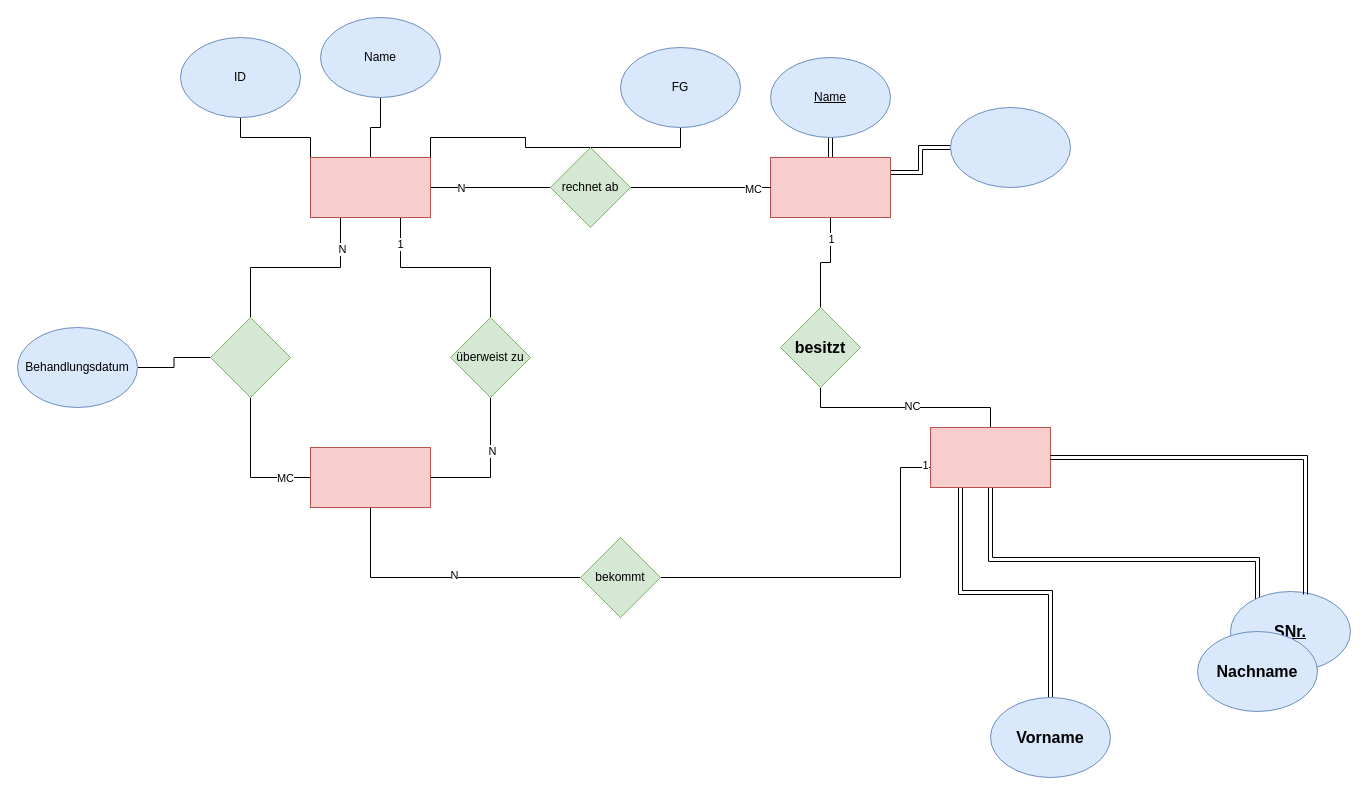
Some shapes in this 1368 by 795 pixel diagram are drawn without their labels. Each missing label, with the centre of its shape:
"behandelt" belongs at (250,357).
"Behandlung" belongs at (370,477).
"Kasse" belongs at (830,187).
"Patient" belongs at (990,457).
"Ärzte" belongs at (370,187).
